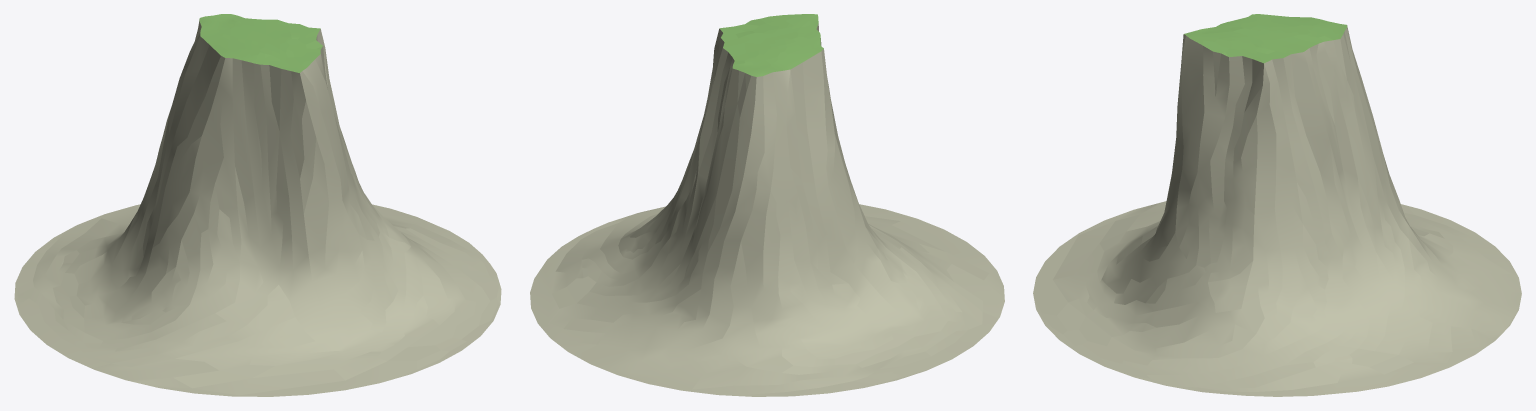
The model's file is island_rocky_A_small_circle.fbx.
3 views of the same model, side by side, from view 1: azimuth 30°, elevation 25°; view 2: azimuth 150°, elevation 25°; view 3: azimuth 270°, elevation 25° (orthographic). The views are drawn at different scales.
Visible parts, largest first — view 1: island_rocky_A_small_circle; view 2: island_rocky_A_small_circle; view 3: island_rocky_A_small_circle.
Part boxes in pixels (x1=…): island_rocky_A_small_circle: x1=14, y1=14, x2=501, y2=396; island_rocky_A_small_circle: x1=530, y1=14, x2=1004, y2=396; island_rocky_A_small_circle: x1=1033, y1=14, x2=1521, y2=396.
Bounding box in the file's own units: 2782 × 1628 × 2782.
